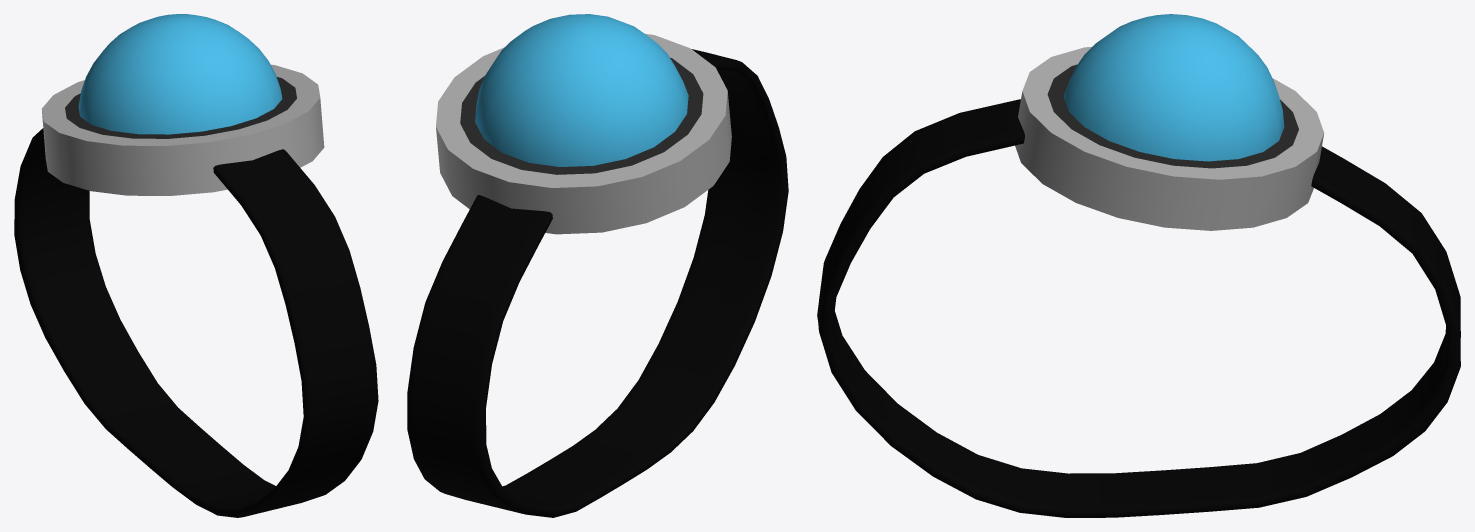
The model's file is Wrist_watch.fbx.
3 views of the same model, side by side, from view 1: azimuth 30°, elevation 25°; view 2: azimuth 150°, elevation 25°; view 3: azimuth 270°, elevation 25° (orthographic). The views are drawn at different scales.
Visible parts, largest first — view 1: Wrist_watch; view 2: Wrist_watch; view 3: Wrist_watch.
Part boxes in pixels (x1,y1,x2,y2): Wrist_watch: (14, 14, 378, 517); Wrist_watch: (407, 14, 788, 517); Wrist_watch: (817, 14, 1460, 517).
Size of the model in its own units: 3.39 by 5.82 by 7.14.
